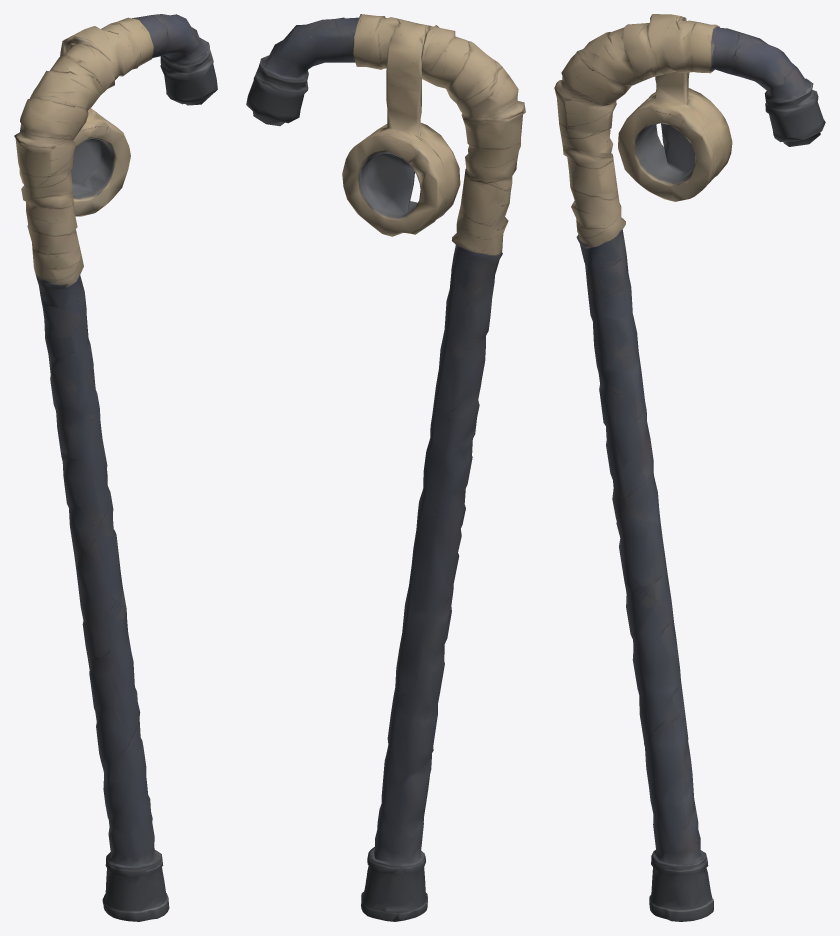
The model's file is cane.glb.
The picture shows the model from 3 angles, left to right: view 1: azimuth 30°, elevation 25°; view 2: azimuth 150°, elevation 25°; view 3: azimuth 330°, elevation 25°; orthographic projection. The views are drawn at different scales.
Visible parts, largest first — view 1: tripo_node_648f7b2f-7cd8-4557-9e8b-54f239e16568; view 2: tripo_node_648f7b2f-7cd8-4557-9e8b-54f239e16568; view 3: tripo_node_648f7b2f-7cd8-4557-9e8b-54f239e16568.
Part boxes in pixels (bbox=[...]): tripo_node_648f7b2f-7cd8-4557-9e8b-54f239e16568: bbox=[14, 14, 217, 921]; tripo_node_648f7b2f-7cd8-4557-9e8b-54f239e16568: bbox=[246, 14, 525, 921]; tripo_node_648f7b2f-7cd8-4557-9e8b-54f239e16568: bbox=[554, 14, 825, 921].
Size of the model in its own units: 0.2775 by 1 by 0.1263.
Materials: 1 (1 with a texture image).
